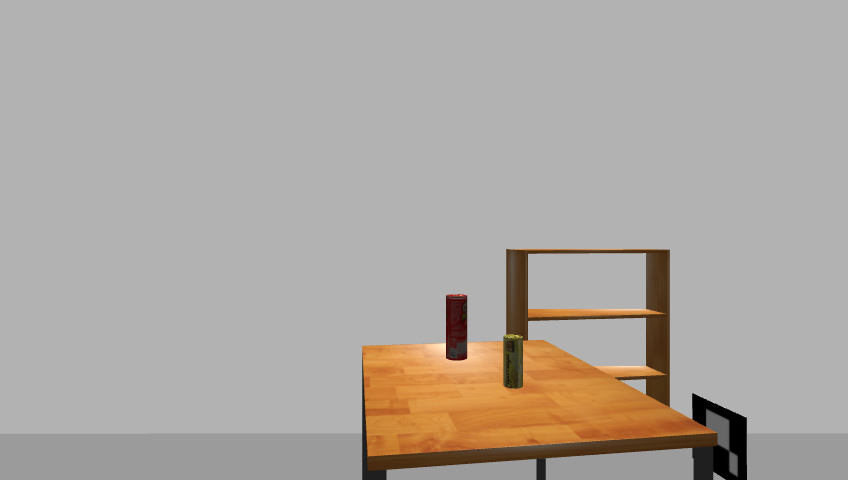aruco marker: (688, 393, 753, 480)
biscuits pack: (503, 334, 525, 390)
bookshelf: (502, 246, 677, 433)
dinner table: (354, 339, 725, 480)
pringles can: (443, 293, 470, 362)
